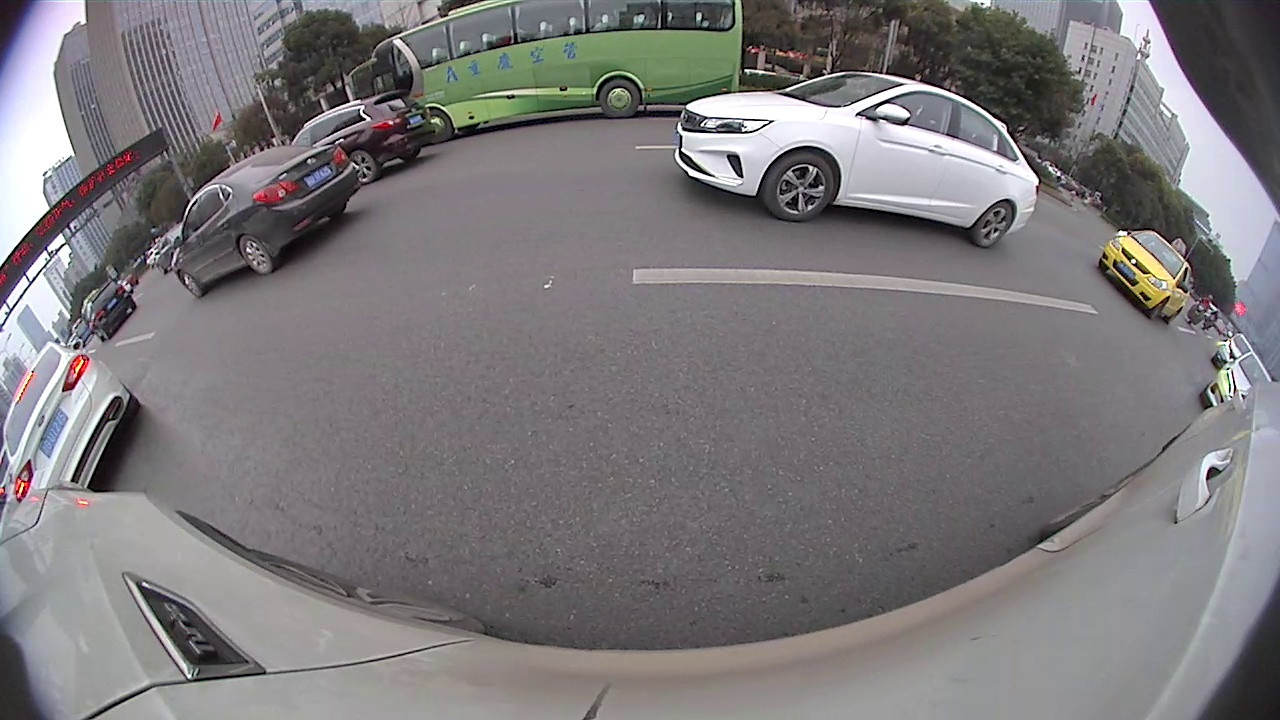bus: (346, 2, 743, 145)
car: (672, 68, 1044, 253), (167, 141, 362, 299), (2, 340, 143, 507), (294, 86, 433, 183), (1098, 222, 1200, 326), (1196, 351, 1275, 417)
front: (761, 152, 834, 221), (427, 108, 455, 143), (179, 269, 203, 298)
rear: (973, 200, 1013, 248), (599, 77, 642, 118), (239, 233, 273, 277), (348, 151, 379, 183)
